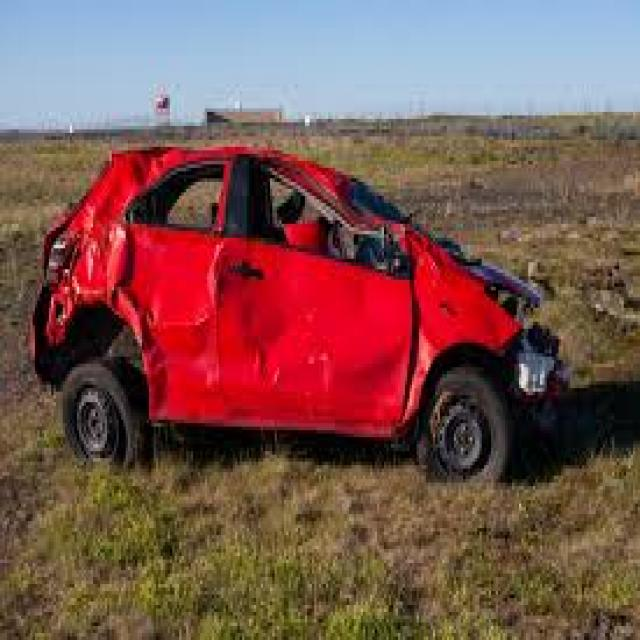severe: (1, 125, 592, 493)
